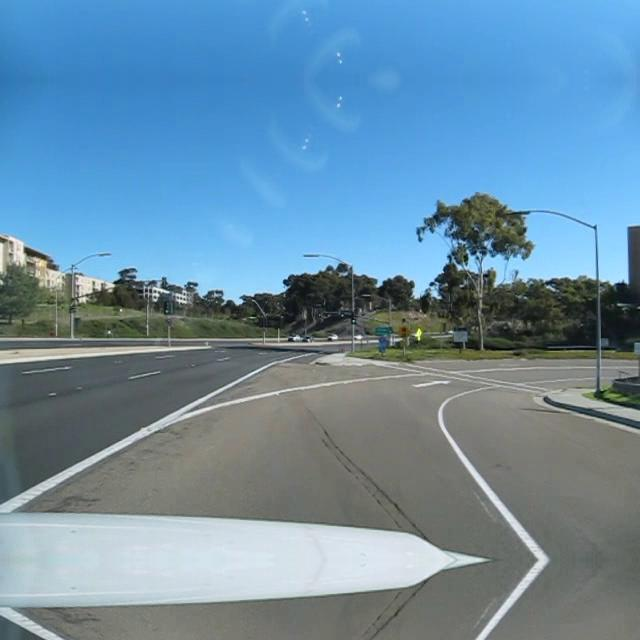signalAhead: (394, 322, 412, 340)
